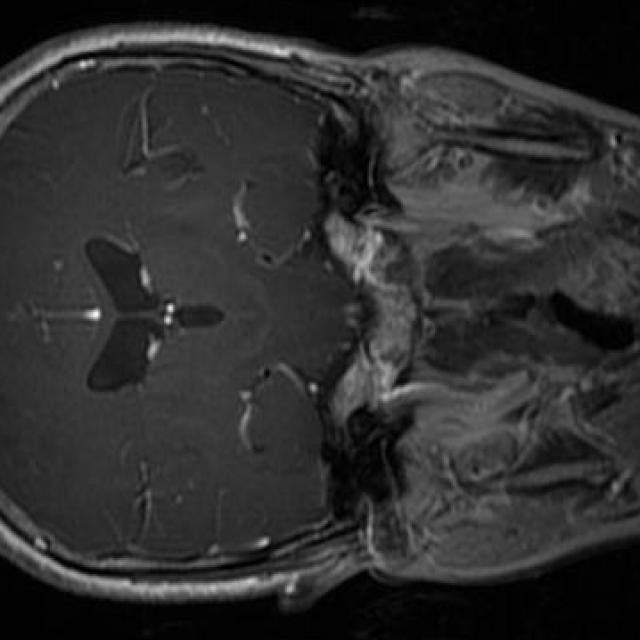glioma: (123, 87, 203, 182)
